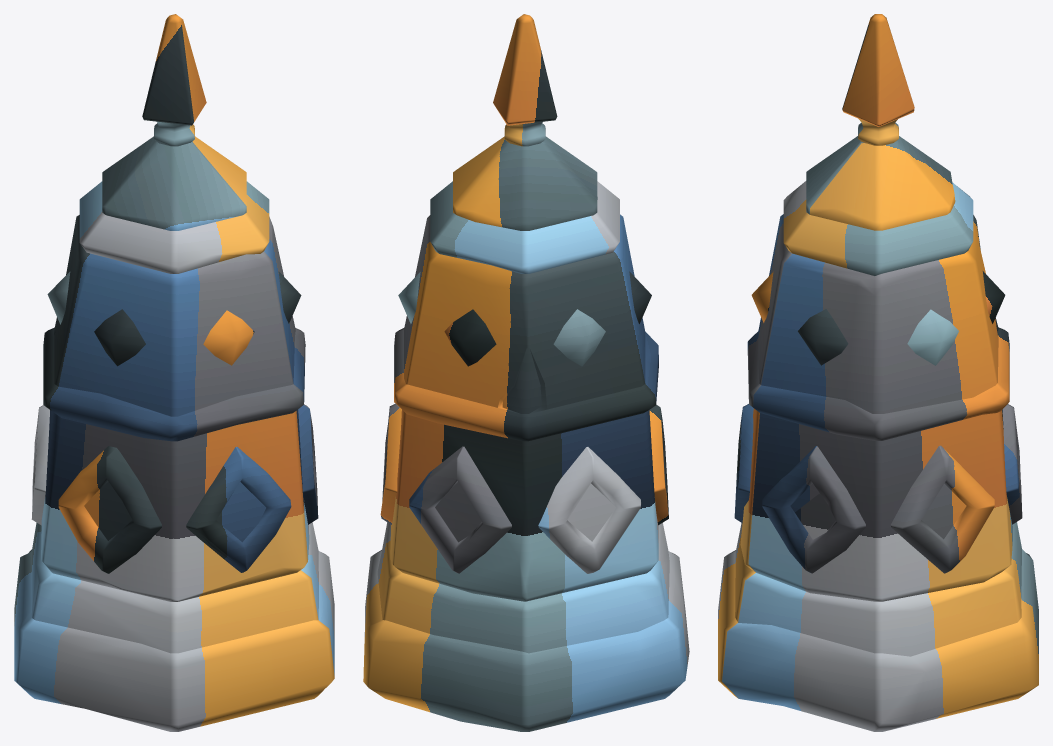
File: CharSkyKid_Prop_StupaBell.glb
3 renders of one model, left to right at view 1: azimuth 30°, elevation 25°; view 2: azimuth 150°, elevation 25°; view 3: azimuth 270°, elevation 25°, orthographic.
Visible parts, largest first — view 1: CharSkyKid_Prop_StupaBell; view 2: CharSkyKid_Prop_StupaBell; view 3: CharSkyKid_Prop_StupaBell.
Boxes of the visible parts, <box> form: CharSkyKid_Prop_StupaBell: <box>14,14,334,731</box>; CharSkyKid_Prop_StupaBell: <box>363,14,689,731</box>; CharSkyKid_Prop_StupaBell: <box>718,14,1038,731</box>.
Bounding box in the file's own units: 0.3101 × 0.6098 × 0.2719.
Materials: 1 (1 with a texture image).
